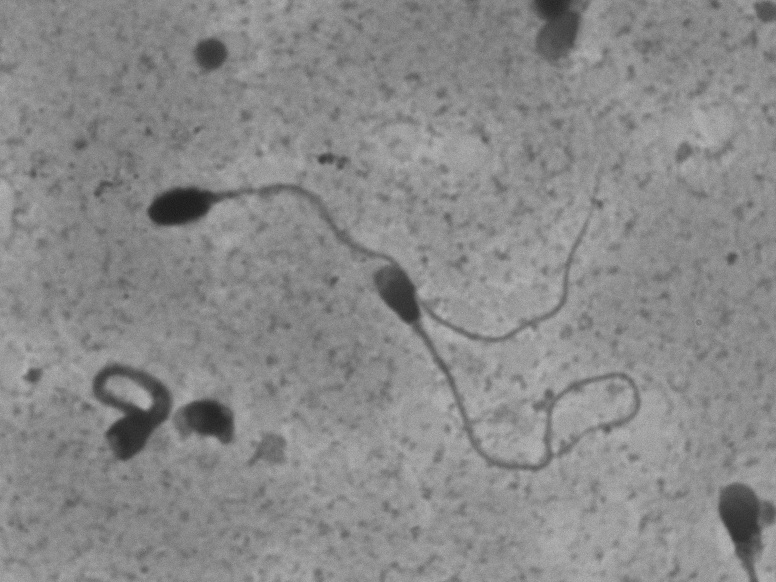Abnormal: (133, 159, 618, 351)
Normal: (363, 258, 670, 495)
